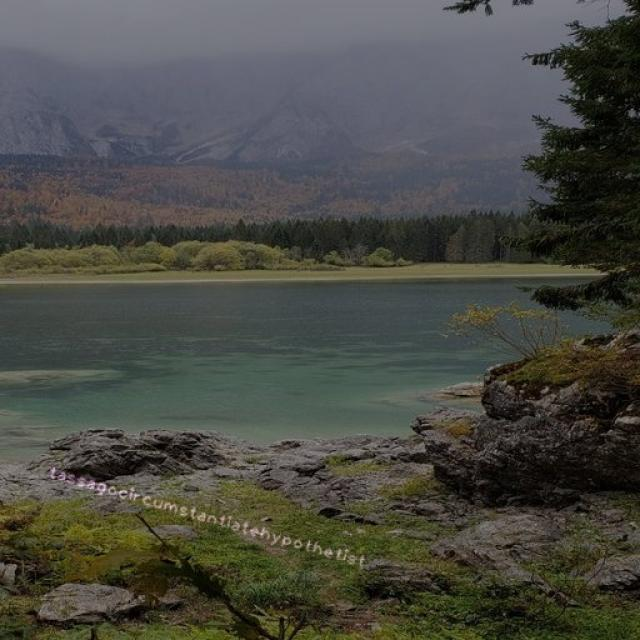watermark: (42, 464, 374, 570)
